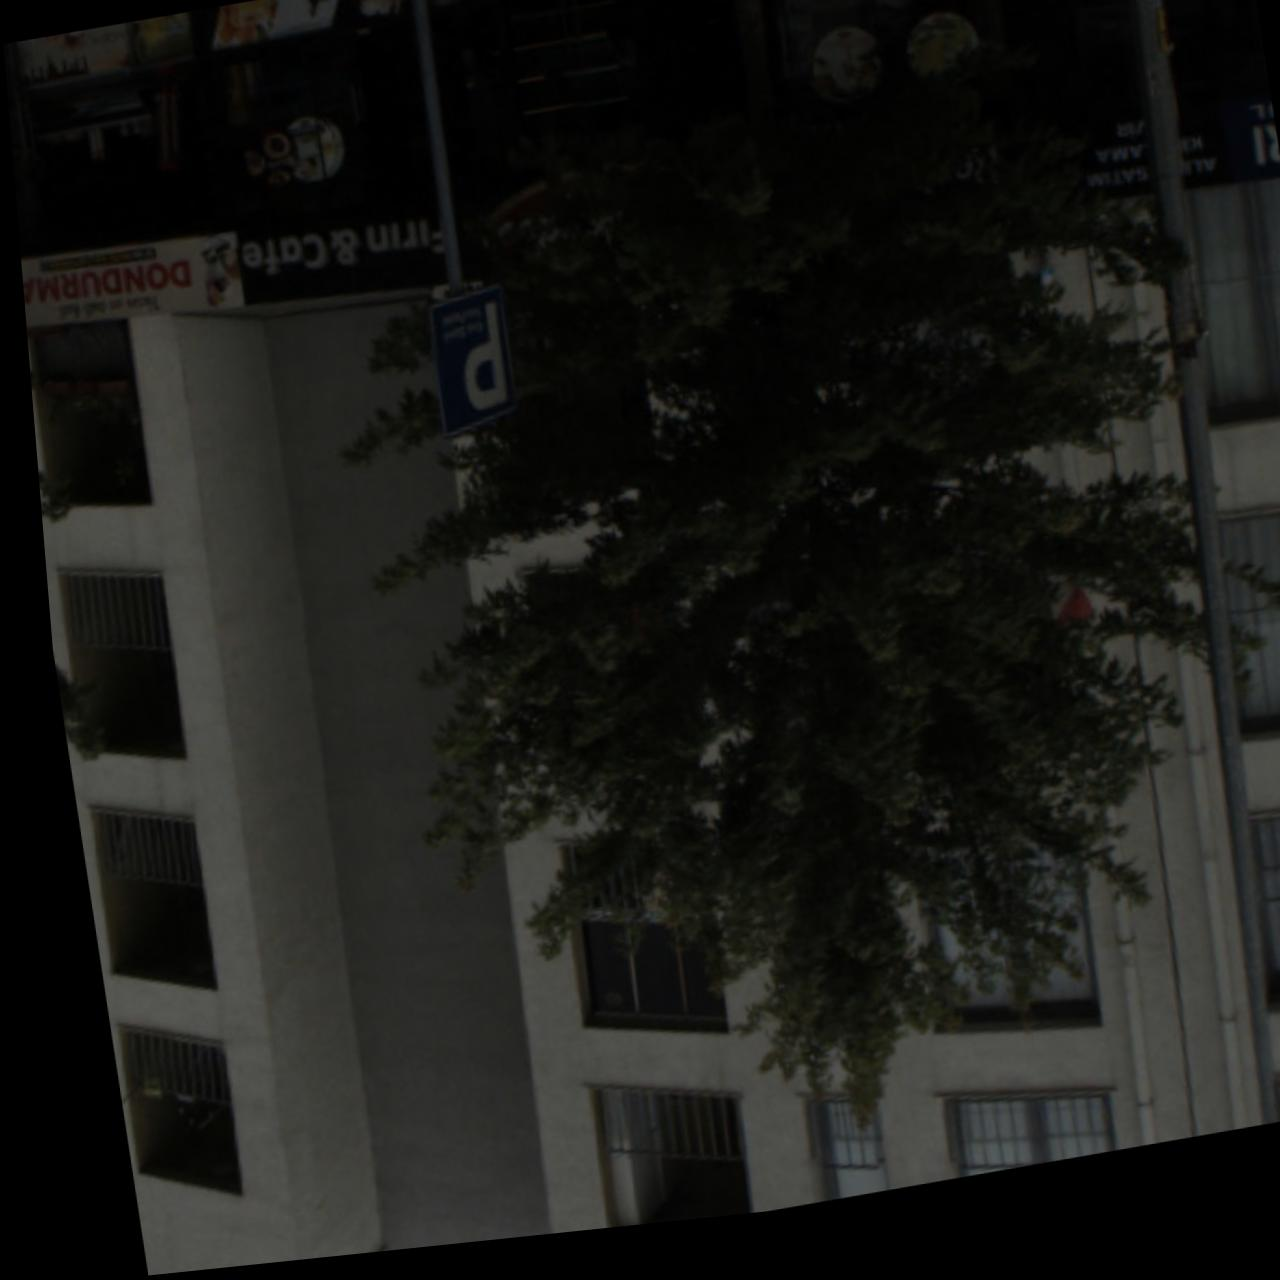SignStore: (231, 170, 700, 312), (1065, 117, 1278, 227), (16, 237, 237, 326)
